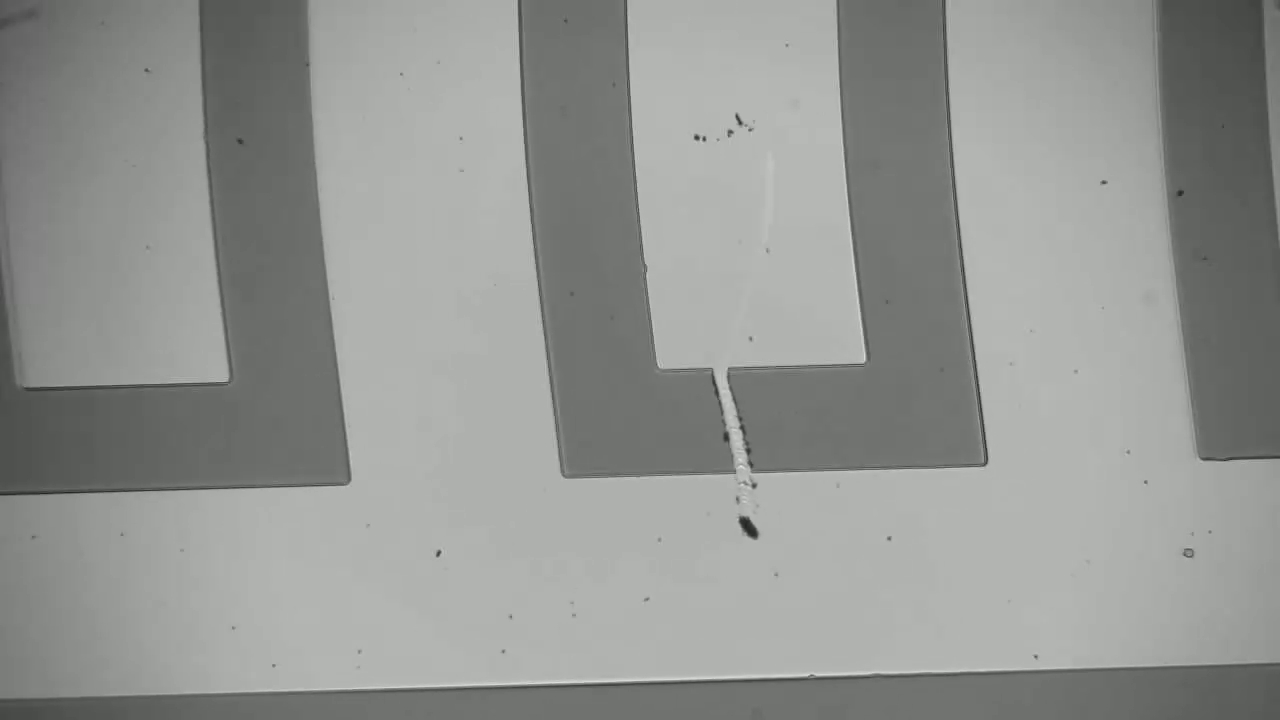Short_circuit: (694, 347, 786, 499)
